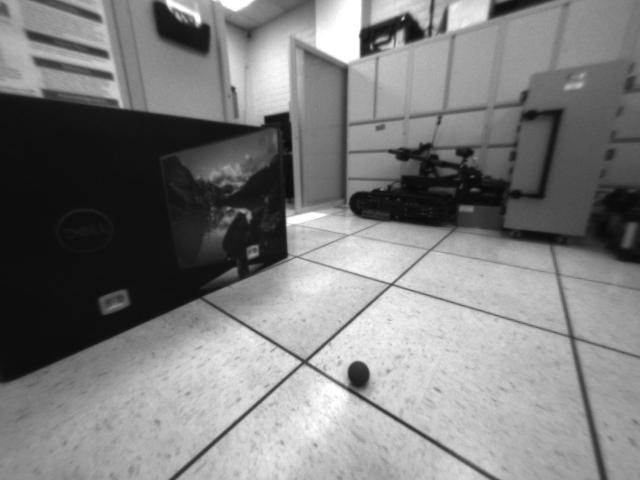dogtoy: (343, 356, 375, 392)
